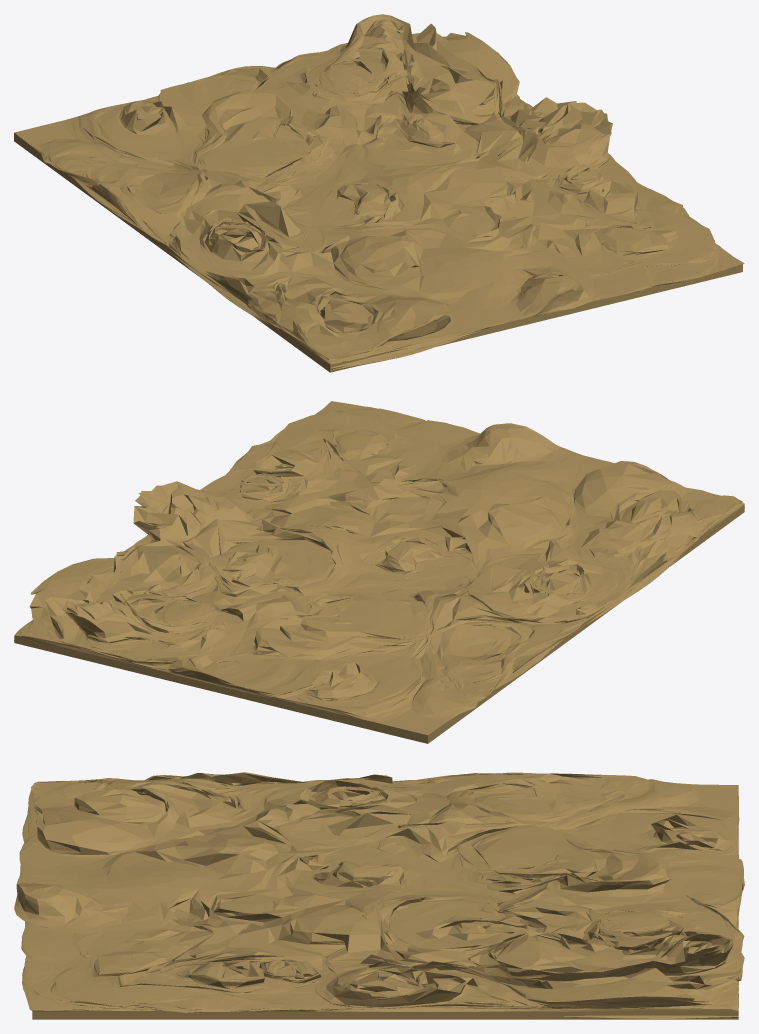
The model's file is sandstone.fbx.
3 views of the same model, one above another, from view 1: azimuth 30°, elevation 25°; view 2: azimuth 150°, elevation 25°; view 3: azimuth 270°, elevation 25° (orthographic). The views are drawn at different scales.
Visible parts, largest first — view 1: Cube; view 2: Cube; view 3: Cube.
Part boxes in pixels (<box>): Cube: <box>14,14,744,372</box>; Cube: <box>14,401,744,743</box>; Cube: <box>14,772,744,1019</box>.
Bounding box in the file's own units: 1948 × 192 × 2461.
